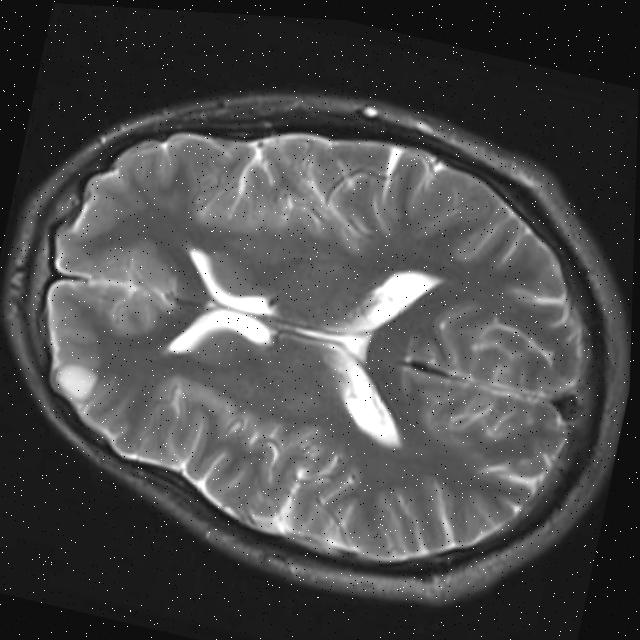NoTumor: (0, 16, 640, 640)
